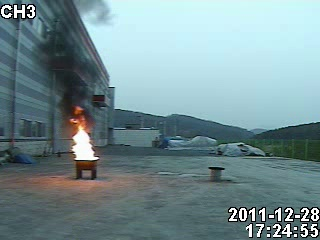fire: (67, 107, 96, 161)
